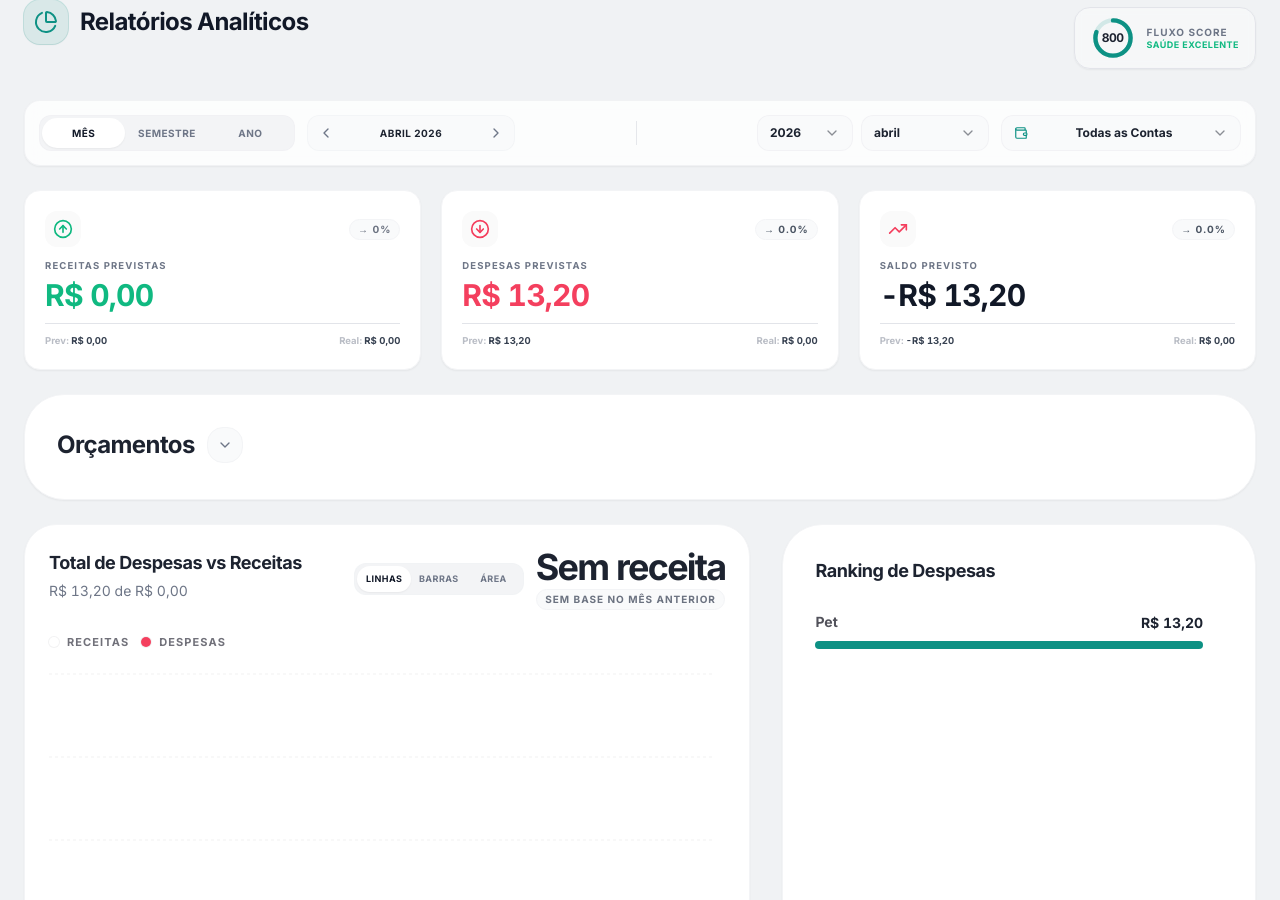
Test case: ReportsDashboard - categoria de acordo › mostra itens do periodo em Projetado para categoria pendente da Gestao de Contas
The width and height of the screenshot is (1280, 900).
Click the button with test id "category-ranking-bar-".
click(1172, 622)  # box top-left (807, 604), bottom-right (1211, 656)
(page scrolled)
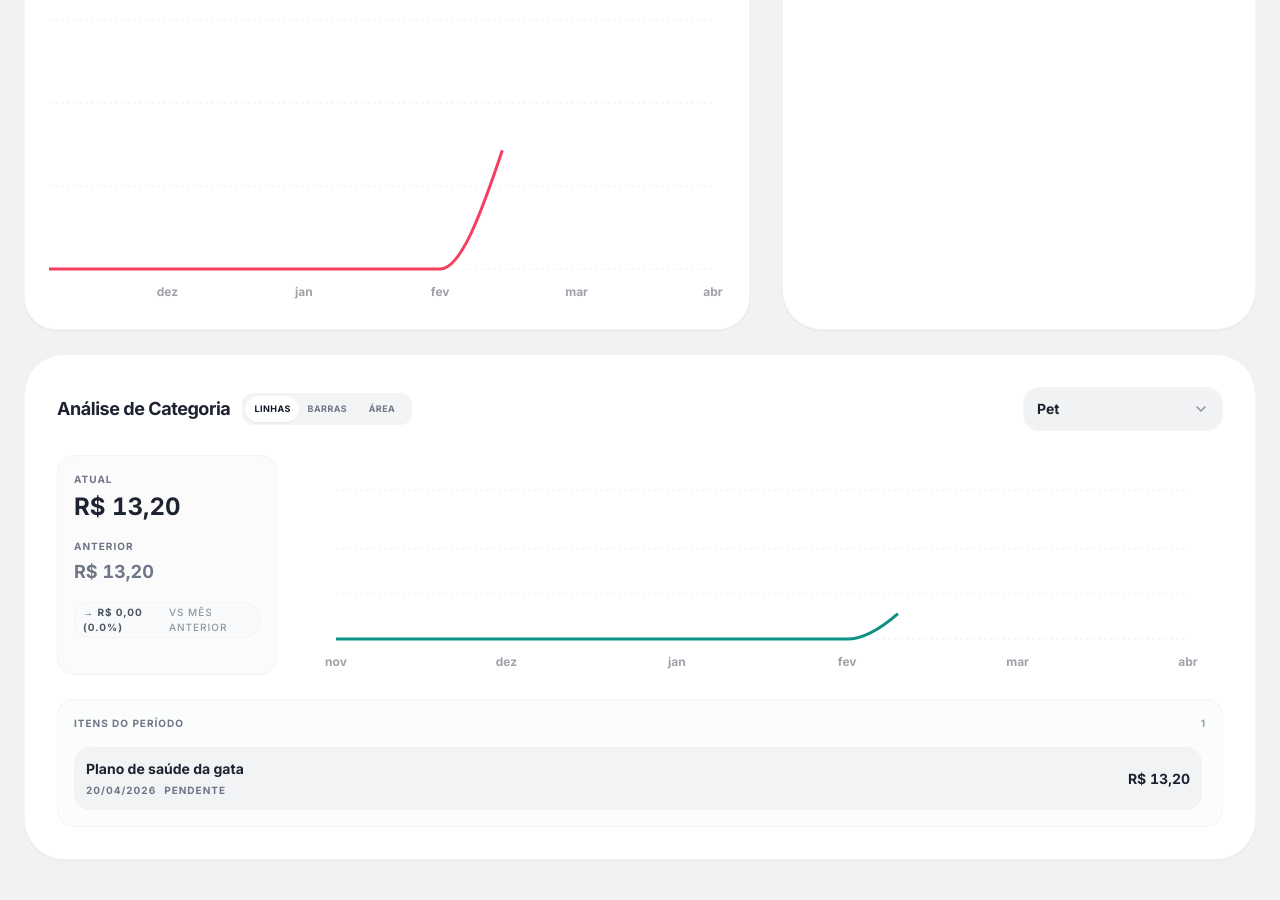
Now the text "R$ 13,20" below "Atual" is shown, box top-left (74, 492), bottom-right (180, 521)
Now the text "Plano de saúde da gata" is shown, box top-left (86, 759), bottom-right (244, 779)
